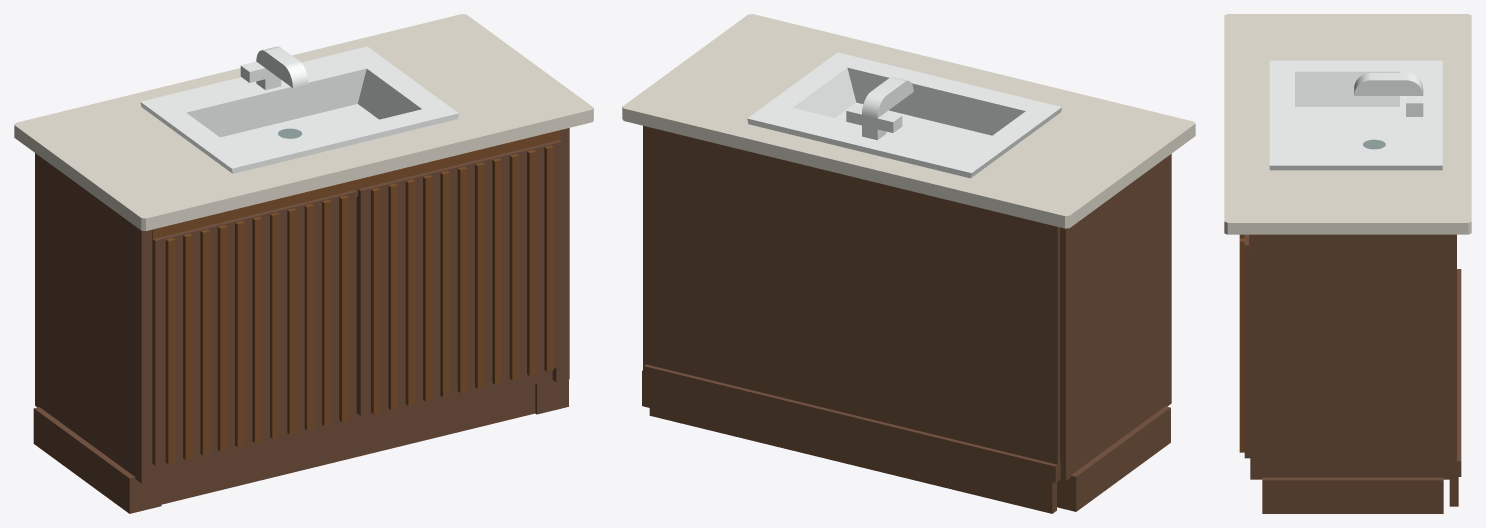
3 renders of one model, left to right at view 1: azimuth 30°, elevation 25°; view 2: azimuth 150°, elevation 25°; view 3: azimuth 270°, elevation 25°, orthographic. The views are drawn at different scales.
Parts seen in each view (by area): view 1: wash-countertop, left-cabinet-wall, right-fluted-front, left-fluted-front, basin-bowl, front-plinth-rail, left-plinth-foot, front-lower-carcass-rail, cabinet-pull-reveal, right-flute-2, left-flute-2, left-flute-0 (+22 smaller); view 2: carcass-back, wash-countertop, left-cabinet-wall, basin-bowl, rear-plinth-rail, rear-lower-carcass-rail, left-plinth-foot, basin-faucet, right-cabinet-wall; view 3: right-cabinet-wall, wash-countertop, basin-bowl, right-plinth-foot, basin-faucet, right-fluted-front, right-flute-10, carcass-back, rear-lower-carcass-rail, rear-plinth-rail.
Boxes of the visible parts, box(x1,y1,x2,y2) form: wash-countertop: box(14, 14, 593, 230); left-cabinet-wall: box(35, 153, 154, 483); right-fluted-front: box(356, 140, 561, 415); left-fluted-front: box(152, 190, 356, 465); basin-bowl: box(140, 46, 458, 173); front-plinth-rail: box(161, 384, 535, 504); left-plinth-foot: box(33, 407, 161, 513); front-lower-carcass-rail: box(154, 370, 552, 476); cabinet-pull-reveal: box(152, 130, 559, 246); right-flute-2: box(405, 179, 415, 405); left-flute-2: box(200, 229, 210, 455); left-flute-0: box(165, 237, 175, 464); carcass-back: box(646, 126, 1059, 464); wash-countertop: box(622, 14, 1195, 228); left-cabinet-wall: box(1060, 154, 1171, 480); basin-bowl: box(747, 52, 1061, 178); rear-plinth-rail: box(649, 384, 1056, 513); rear-lower-carcass-rail: box(643, 364, 1060, 482); left-plinth-foot: box(1057, 406, 1170, 511); basin-faucet: box(846, 77, 913, 140); right-cabinet-wall: box(643, 125, 646, 377); right-cabinet-wall: box(1250, 234, 1452, 479); wash-countertop: box(1224, 14, 1471, 234); basin-bowl: box(1269, 60, 1442, 170); right-plinth-foot: box(1262, 477, 1443, 513); basin-faucet: box(1354, 73, 1423, 116); right-fluted-front: box(1244, 234, 1250, 458); right-flute-10: box(1239, 238, 1244, 452); carcass-back: box(1452, 234, 1456, 461); rear-lower-carcass-rail: box(1452, 269, 1461, 476); rear-plinth-rail: box(1449, 477, 1458, 506).
Bounding box in the file's own units: 1.2 × 0.9 × 0.6.
